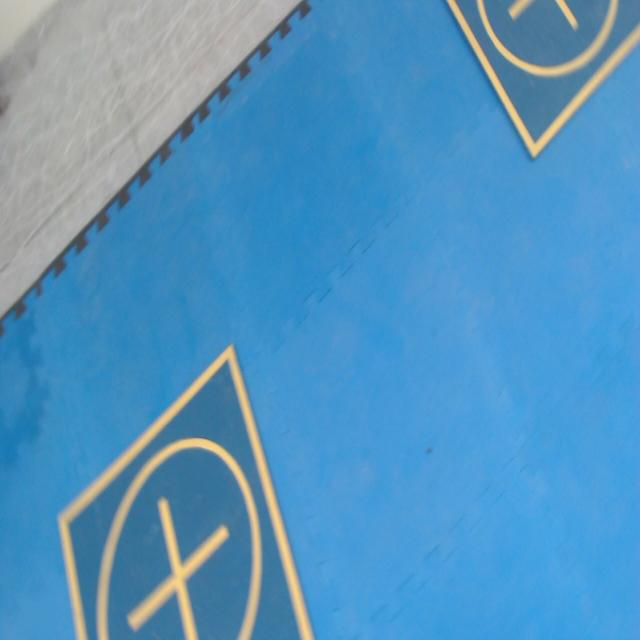base_pouso: (57, 342, 319, 639), (445, 2, 640, 159)
